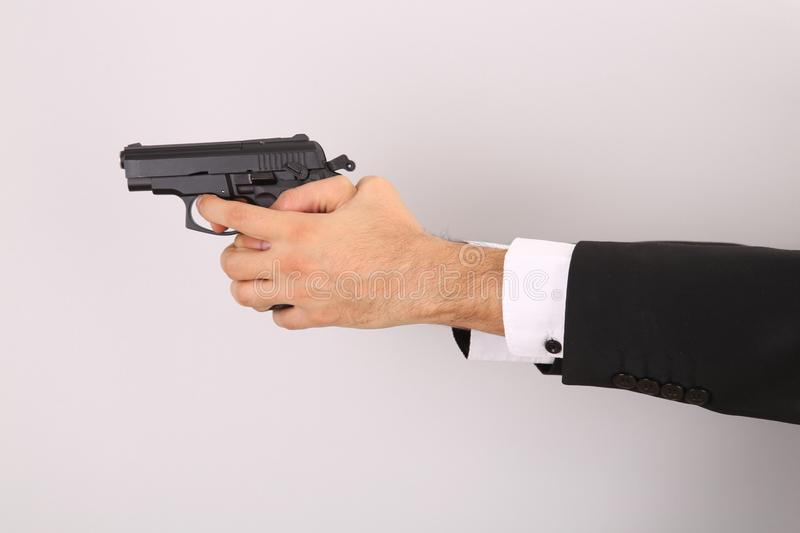weapon: (115, 130, 361, 243)
